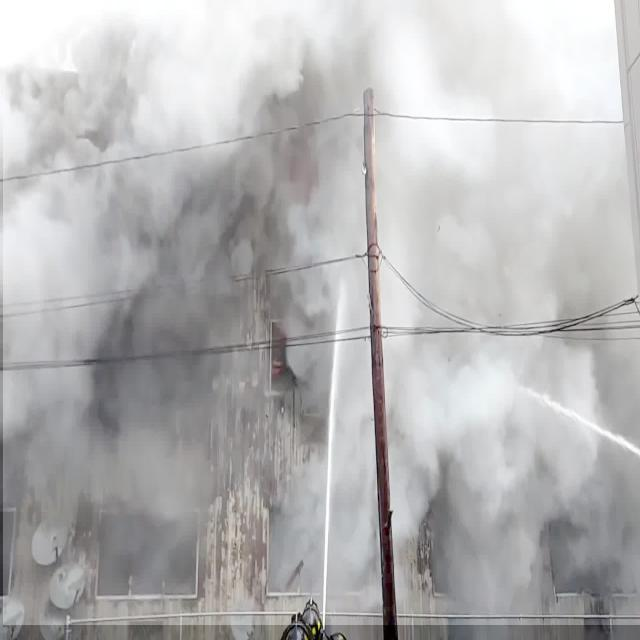Smoke: (3, 0, 640, 625)
